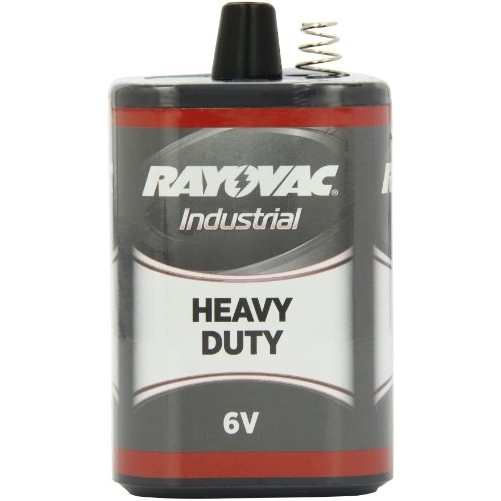6V: (101, 5, 403, 495)
